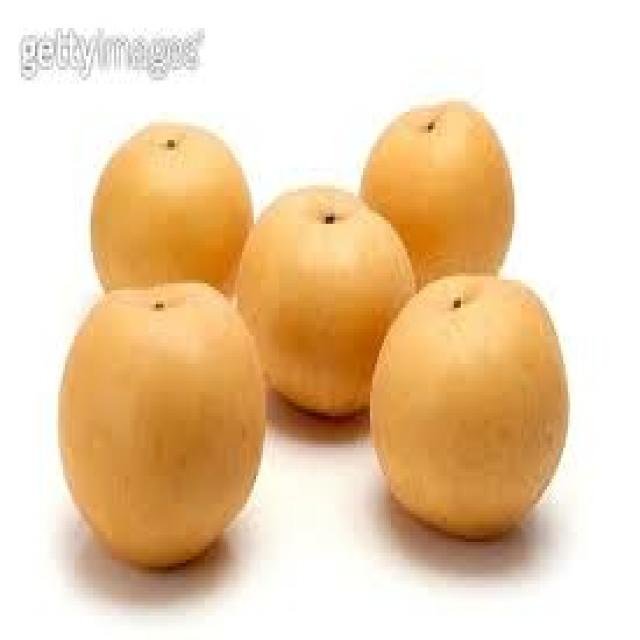Pear: (61, 283, 265, 568), (372, 276, 570, 539)
